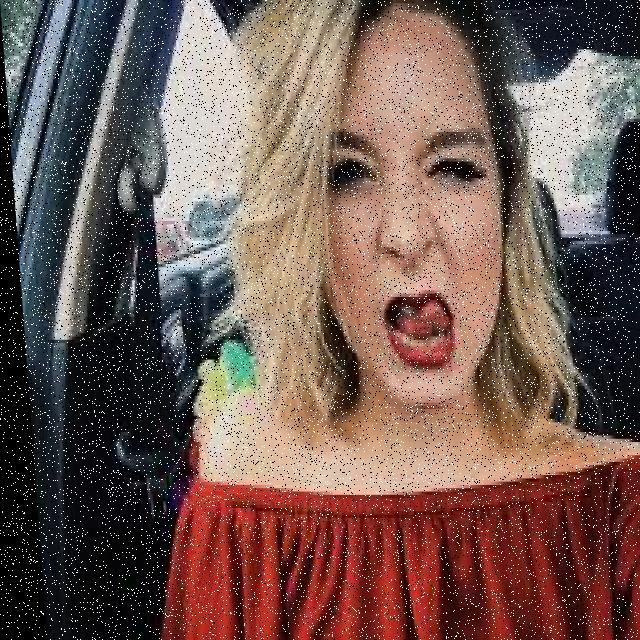noSeatbelt: (159, 344, 640, 639)
